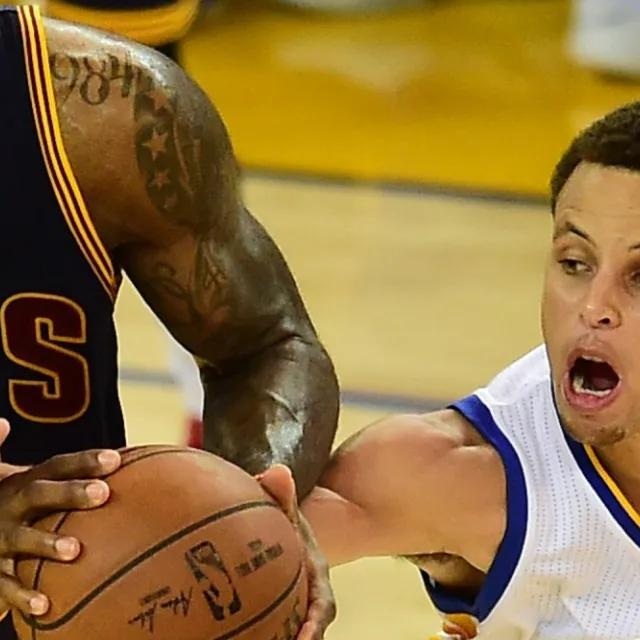basketball: (5, 440, 313, 640)
